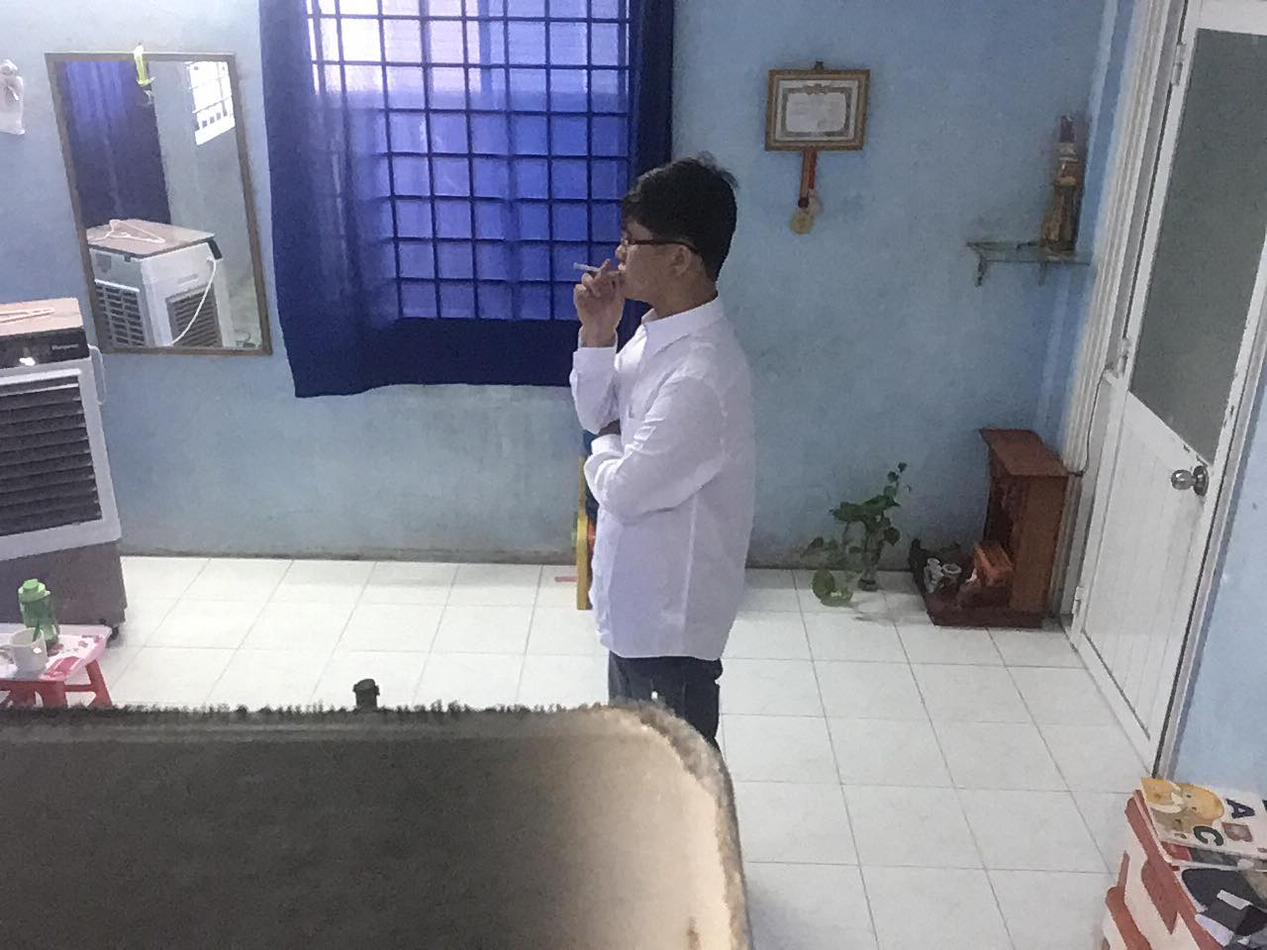cigarette: (575, 254, 621, 281)
person: (531, 152, 820, 816)
